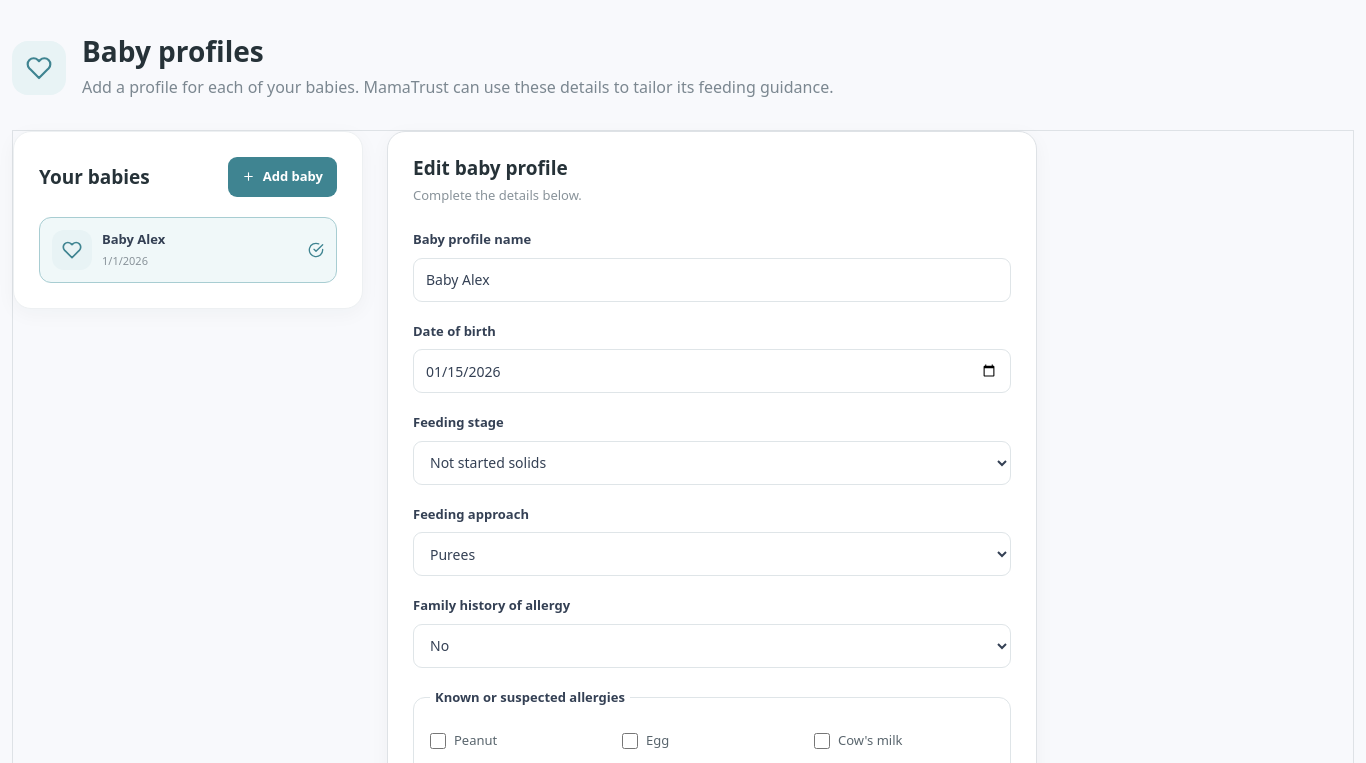
Profile Page › allows the user to start creating another profile
Check: the text "Baby Alex" is shown, box [102,230,165,248]
What coordinates should you click on to do the following:
click the button "Add baby"
I would click on:
 (282, 177)
Its box is [228,157,337,197].
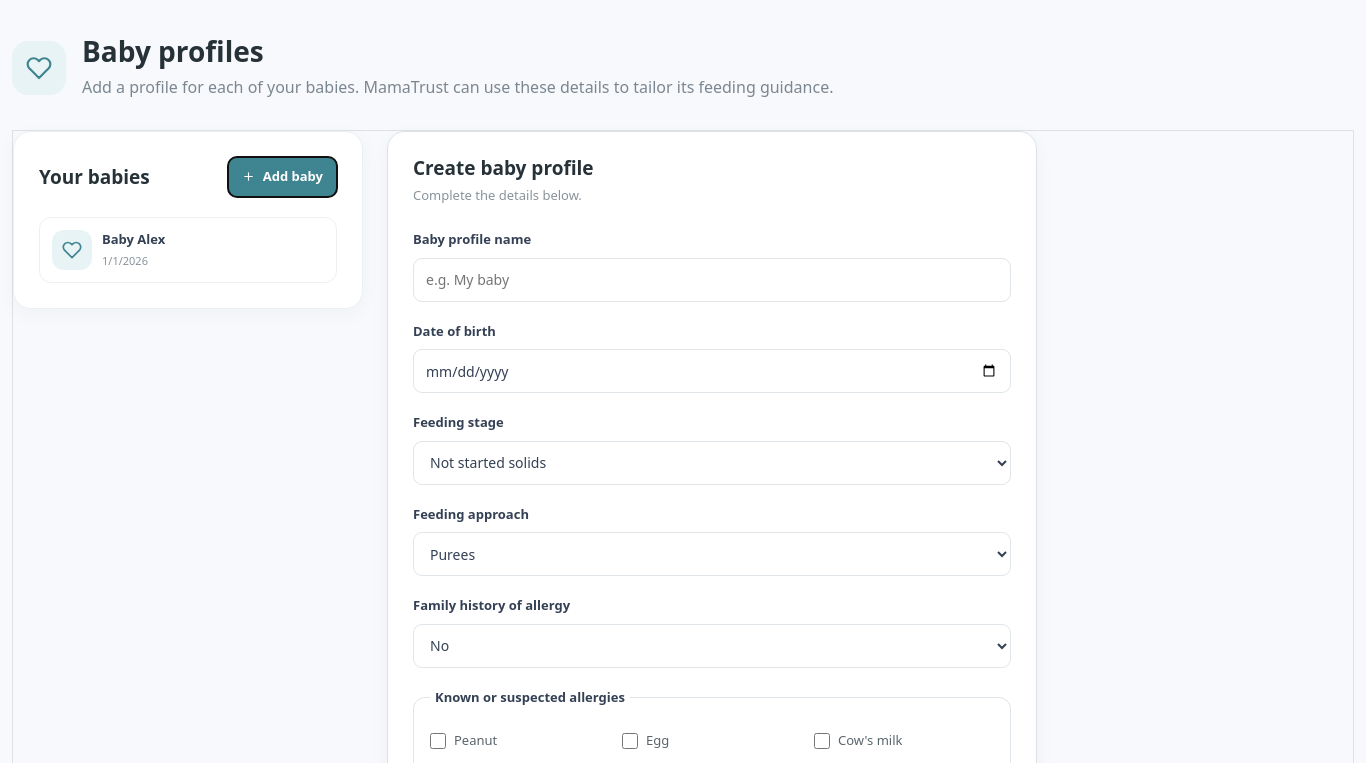
Check: the heading "Create baby profile" is shown, box [413,155,594,181]
Check: the field labelled "Baby profile name" is empty, box [413,258,1011,302]
Check: the date field labelled "Date of birth" is empty, box [413,350,1011,394]
